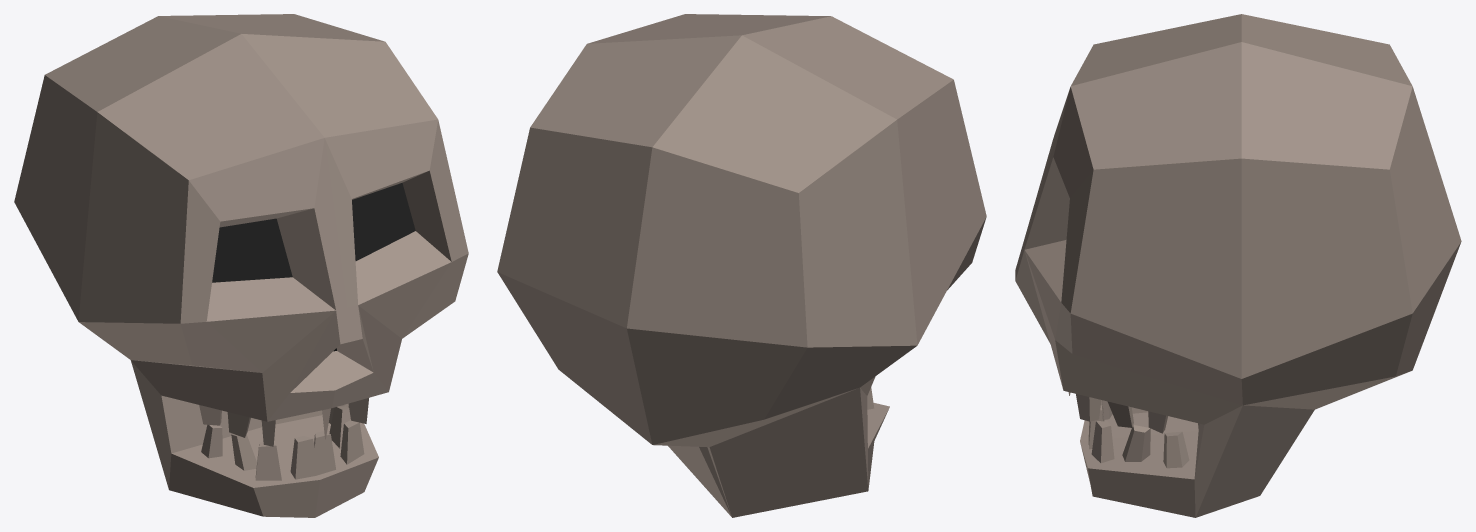
The model's file is LPHorror_Scull.fbx.
3 views of the same model, side by side, from view 1: azimuth 30°, elevation 25°; view 2: azimuth 150°, elevation 25°; view 3: azimuth 270°, elevation 25° (orthographic). The views are drawn at different scales.
Parts seen in each view (by area): view 1: Scull; view 2: Scull; view 3: Scull.
Part boxes in pixels (x1,y1,x2,y2): Scull: (14,14,468,517); Scull: (497,14,986,517); Scull: (1015,14,1461,517).
Size of the model in its own units: 36.45 by 47.2 by 42.05.
